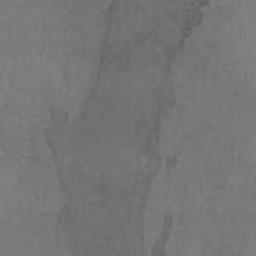Water spot: (46, 0, 212, 256)
